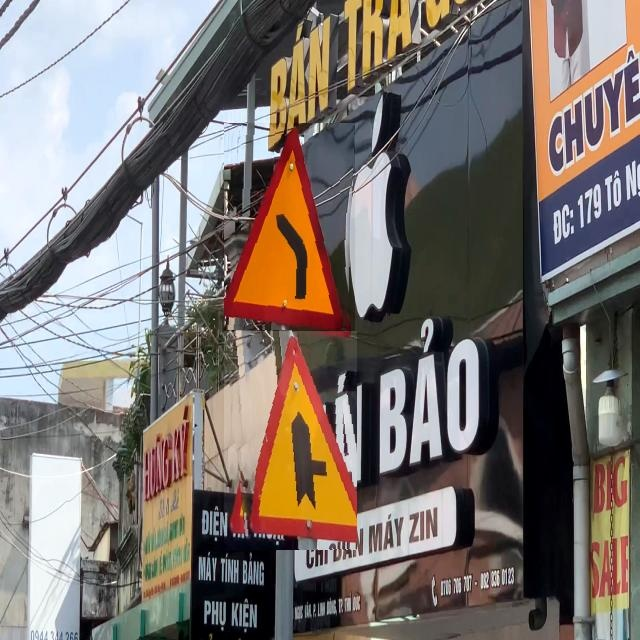bien_nguy_hiem: (224, 331, 357, 550), (224, 124, 355, 342)
